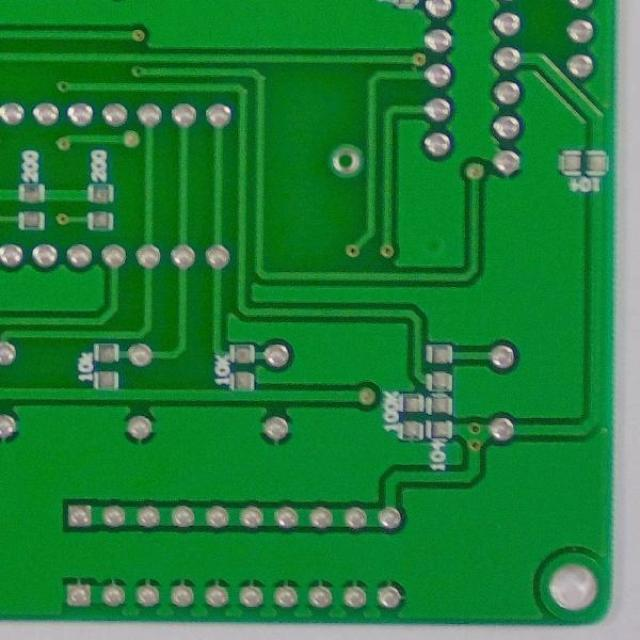Missing_Hole: (326, 140, 364, 180)
